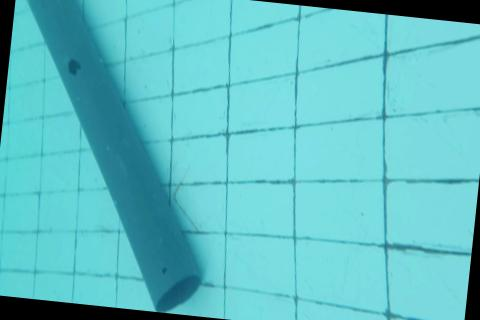kebocoran: (67, 58, 83, 76), (161, 267, 167, 274)
